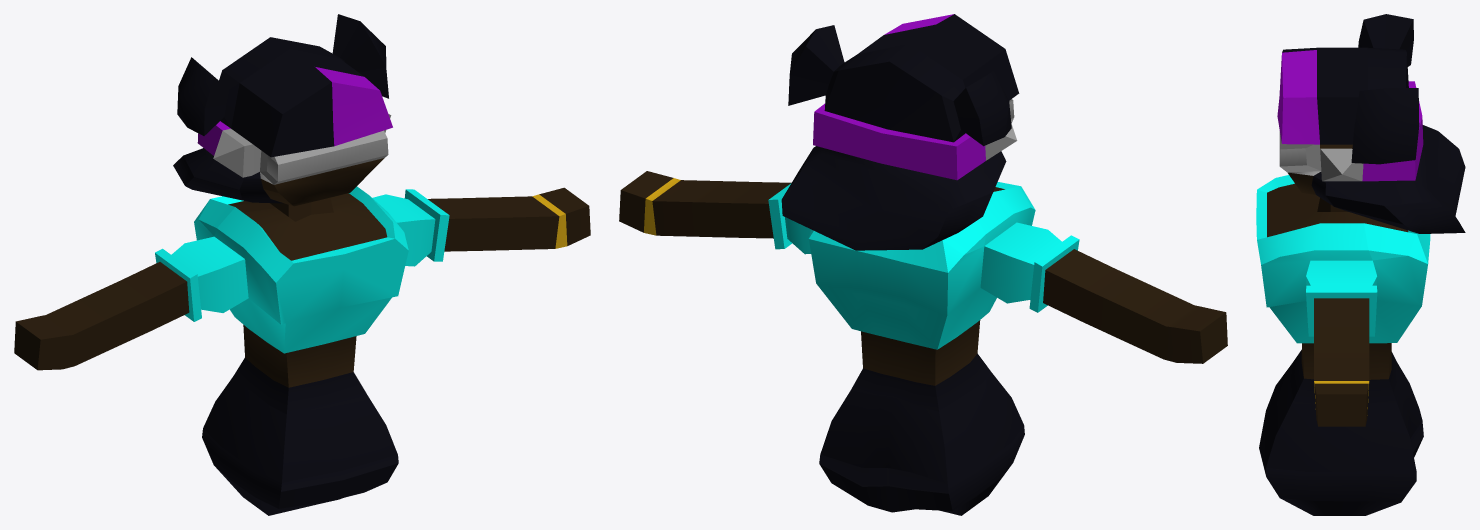
File: CHAR_FemaleB.FBX
3 views of the same model, side by side, from view 1: azimuth 30°, elevation 25°; view 2: azimuth 150°, elevation 25°; view 3: azimuth 270°, elevation 25° (orthographic). The views are drawn at different scales.
Parts seen in each view (by area): view 1: CHAR_Female; view 2: CHAR_Female; view 3: CHAR_Female.
Boxes of the visible parts, left/top/right/bottom form: CHAR_Female: left=14, top=14, right=590, bottom=515; CHAR_Female: left=619, top=14, right=1227, bottom=515; CHAR_Female: left=1256, top=14, right=1465, bottom=515.
Size of the model in its own units: 41.25 by 31.17 by 13.34.
